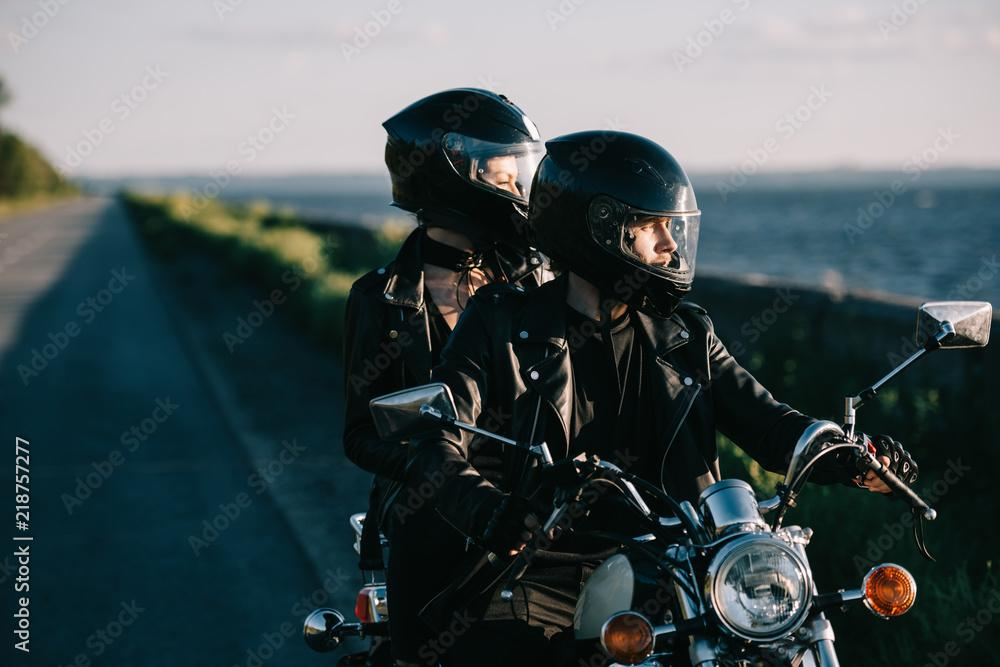helmet: (525, 129, 703, 324), (381, 86, 556, 258)
